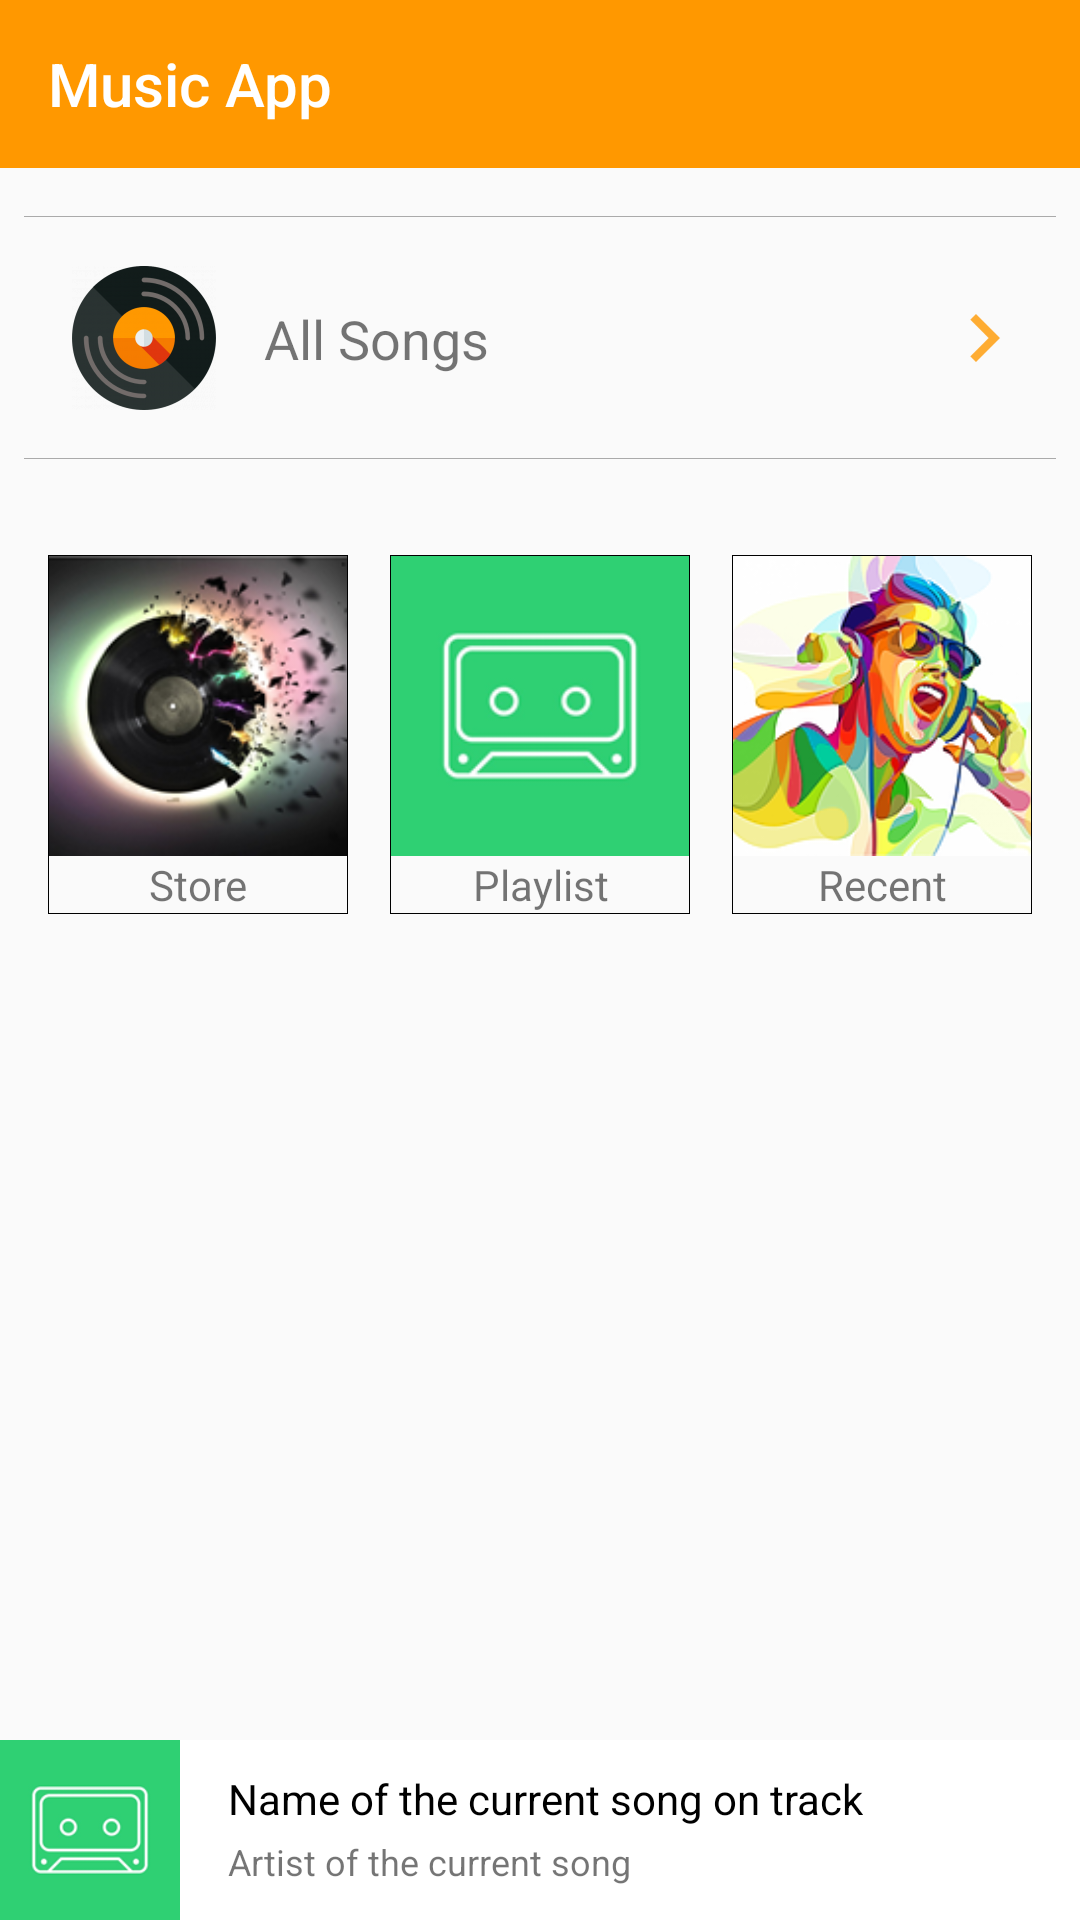

Where icons sit on this 1080*1920 app screen, as (x1, y1, x2, y2):
Open: (970, 314, 1000, 362)
